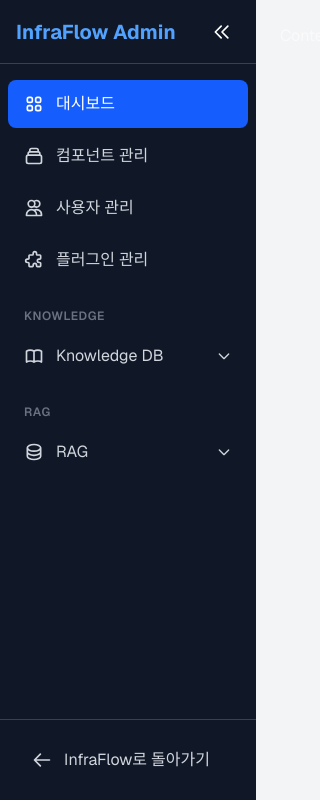
Test: AdminLayout › Sidebar Toggle › should hide navigation labels when sidebar is collapsed
Expected: the text "대시보드" is shown, [56,92,115,116]
# Collapse sidebar
Step 1. Click the 1st button → (222, 32), box [204,14,240,50]
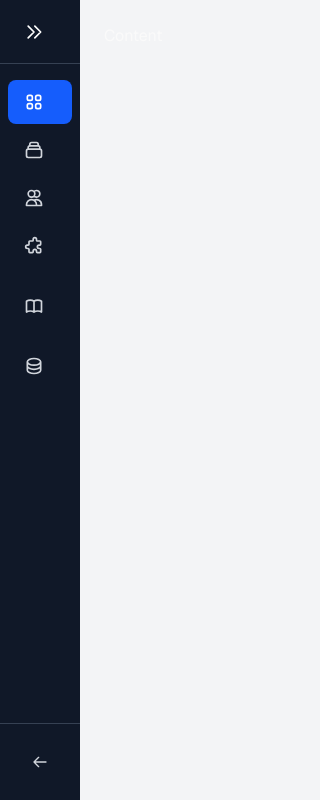
Now the text "대시보드" is gone
